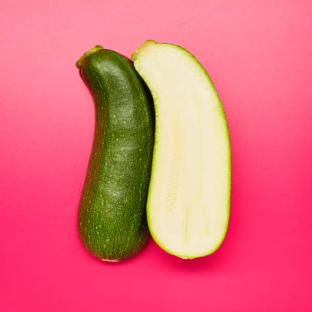Zucchini: (133, 41, 230, 258), (77, 46, 154, 261)
